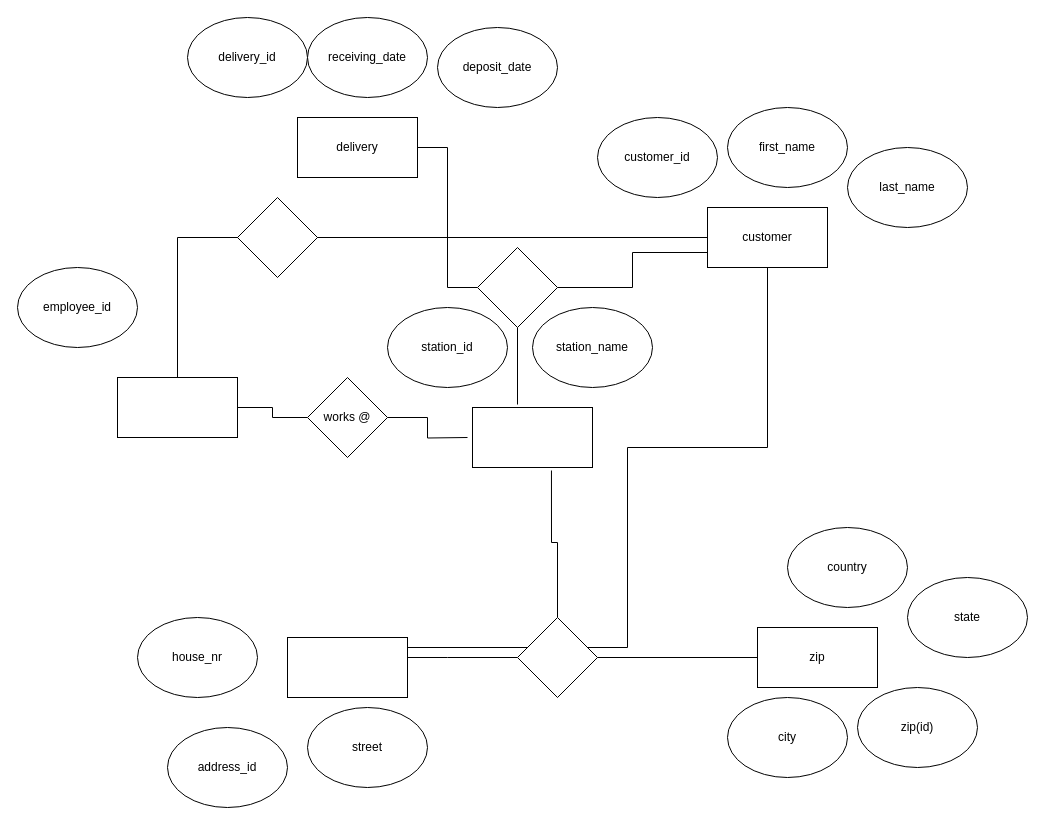
Some shapes in this 1045 by 825 pixel diagram are drawn without their labels. Each missing label, with the centre of its shape:
adress: [347,667]
employee: [177,407]
gets/brings package: [517,287]
has: [557,657]
is also: [277,237]
post_station: [532,437]
